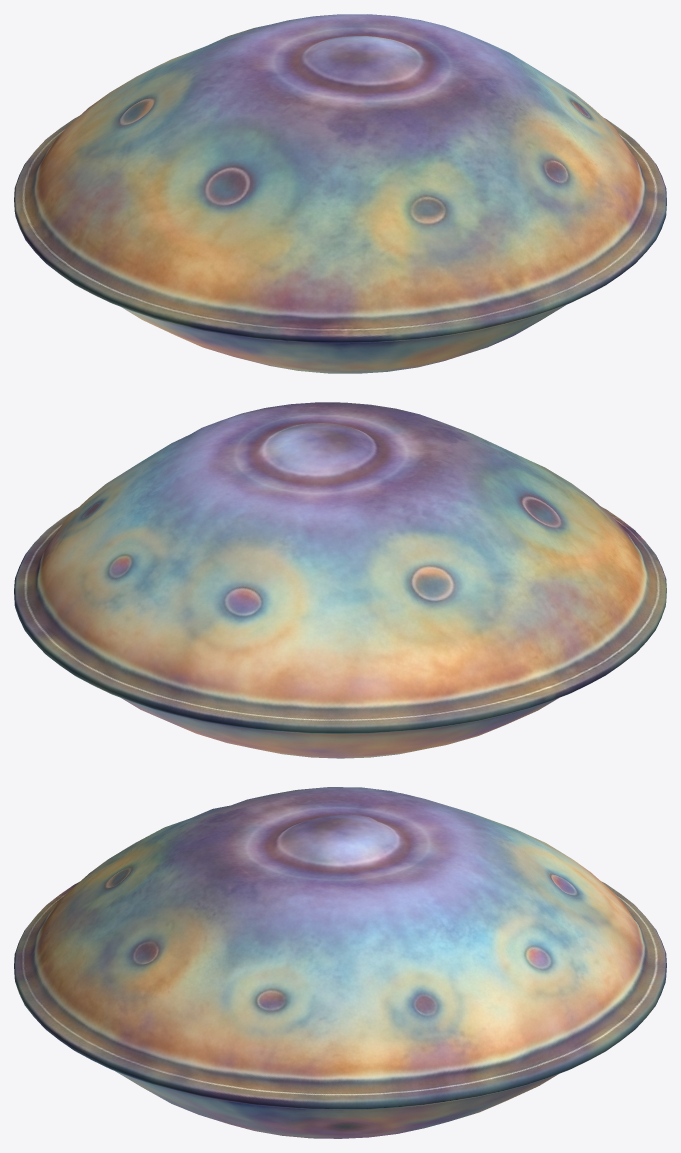
The picture shows the model from 3 angles, top to bottom: view 1: azimuth 30°, elevation 25°; view 2: azimuth 150°, elevation 25°; view 3: azimuth 270°, elevation 25°; orthographic projection.
Visible parts, largest first — view 1: g; view 2: g; view 3: g.
Boxes of the visible parts, left/top/right/bottom form: g: left=14, top=14, right=666, bottom=373; g: left=14, top=402, right=666, bottom=758; g: left=14, top=787, right=666, bottom=1138.
Bounding box in the file's own units: 2 × 0.9154 × 2.
1 material, 1 textured.
